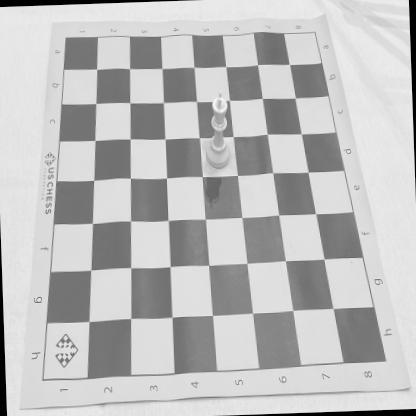white-king: (204, 90, 232, 170)
